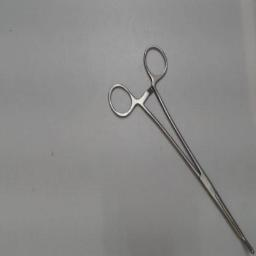Lahey Forceps: (104, 39, 254, 255)
